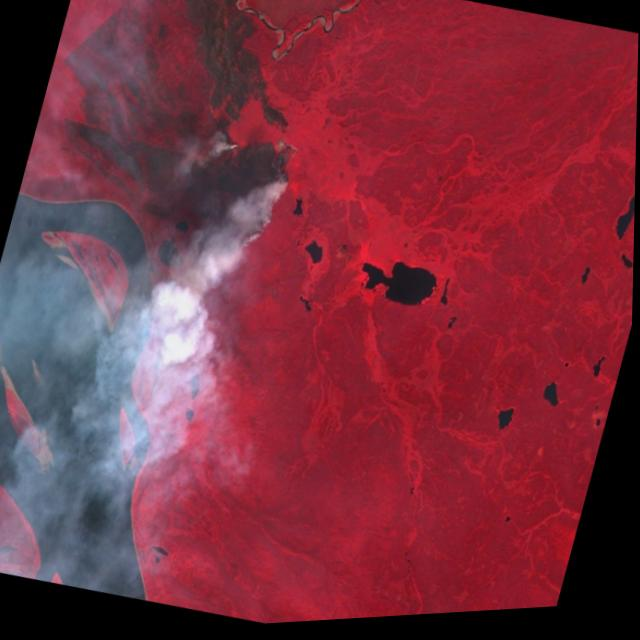fire: (182, 121, 306, 286)
